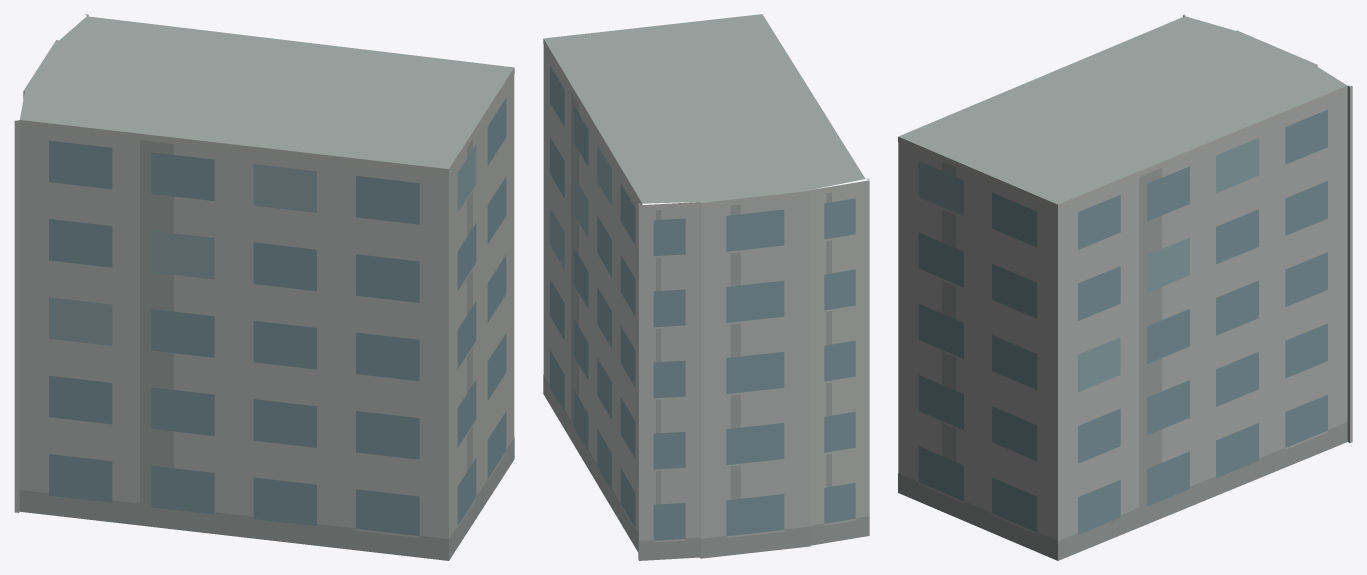
The model's file is survey-upis-32881791.glb.
3 renders of one model, left to right at view 1: azimuth 30°, elevation 25°; view 2: azimuth 150°, elevation 25°; view 3: azimuth 270°, elevation 25°, orthographic. The views are drawn at different scales.
Visible parts, largest first — view 1: survey-upis-32881791.tmp; view 2: survey-upis-32881791.tmp; view 3: survey-upis-32881791.tmp.
Part boxes in pixels (bbox=[...]): survey-upis-32881791.tmp: bbox=[14, 14, 514, 560]; survey-upis-32881791.tmp: bbox=[543, 14, 869, 560]; survey-upis-32881791.tmp: bbox=[898, 14, 1352, 560].
Size of the model in its own units: 16.99 by 14.8 by 17.12.
